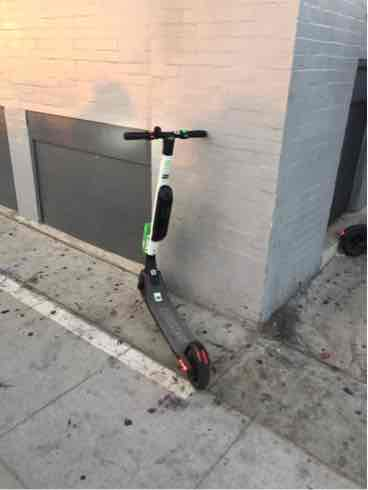scooter: (112, 124, 217, 404)
